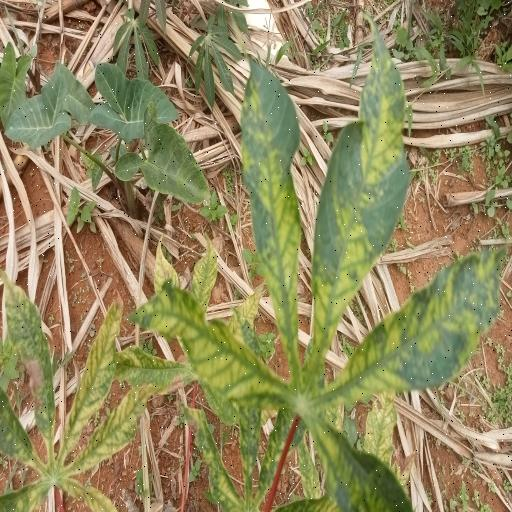Cassava_Mosaic: (120, 27, 512, 512), (0, 280, 159, 512)
